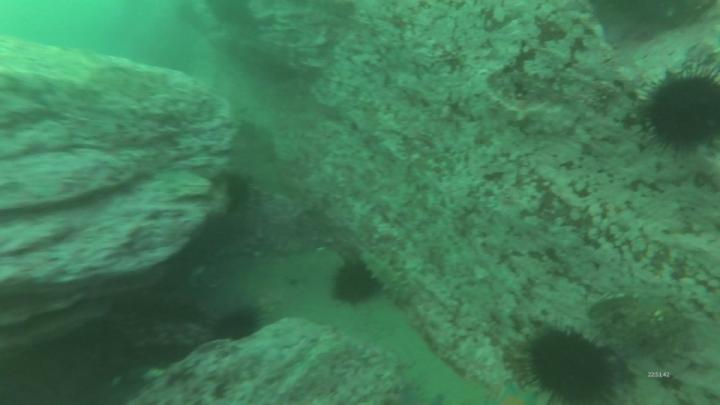echinus: (518, 331, 619, 401), (647, 71, 720, 151), (335, 261, 380, 302), (214, 315, 262, 342), (228, 177, 249, 213)
holothurian: (359, 250, 412, 304)
